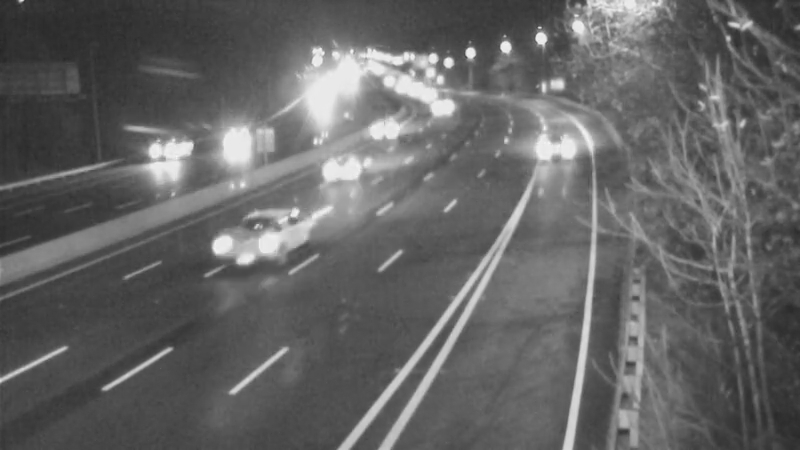vehicle: (306, 125, 386, 205), (212, 199, 292, 279), (125, 113, 205, 193), (390, 65, 440, 115), (404, 69, 454, 119), (416, 86, 466, 136), (528, 120, 578, 170), (357, 107, 407, 157), (212, 110, 262, 160)
